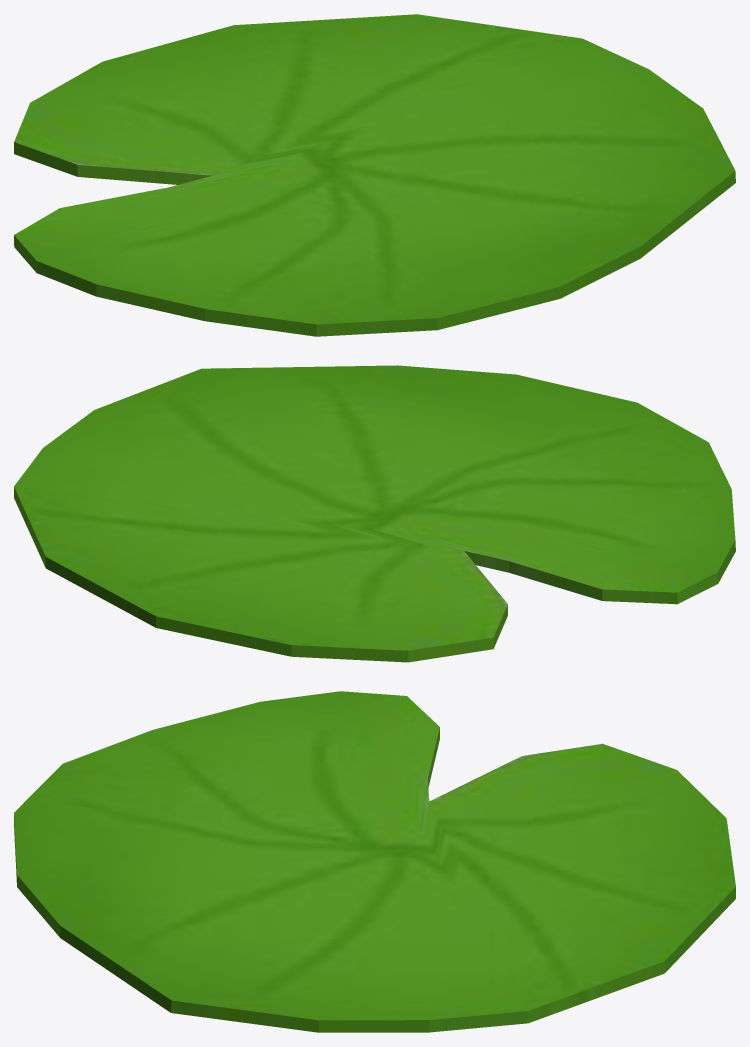
The model's file is LotusLeaf.fbx.
3 renders of one model, top to bottom at view 1: azimuth 30°, elevation 25°; view 2: azimuth 150°, elevation 25°; view 3: azimuth 270°, elevation 25°, orthographic. The views are drawn at different scales.
Visible parts, largest first — view 1: lotusLeeaf; view 2: lotusLeeaf; view 3: lotusLeeaf.
Part boxes in pixels (x1,y1,x2,y2): lotusLeeaf: (14, 14, 735, 336); lotusLeeaf: (14, 365, 735, 662); lotusLeeaf: (14, 691, 735, 1032).
Size of the model in its own units: 26.65 by 0.4685 by 24.7.
Materials: 1 (1 with a texture image).
